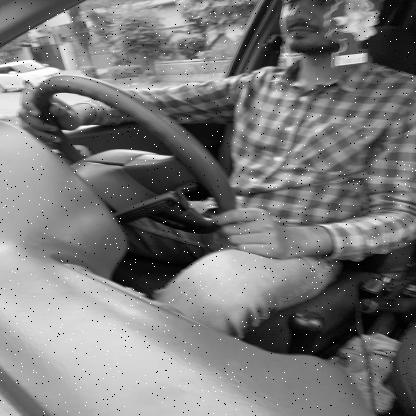no_seatbelt: (230, 0, 381, 184)
